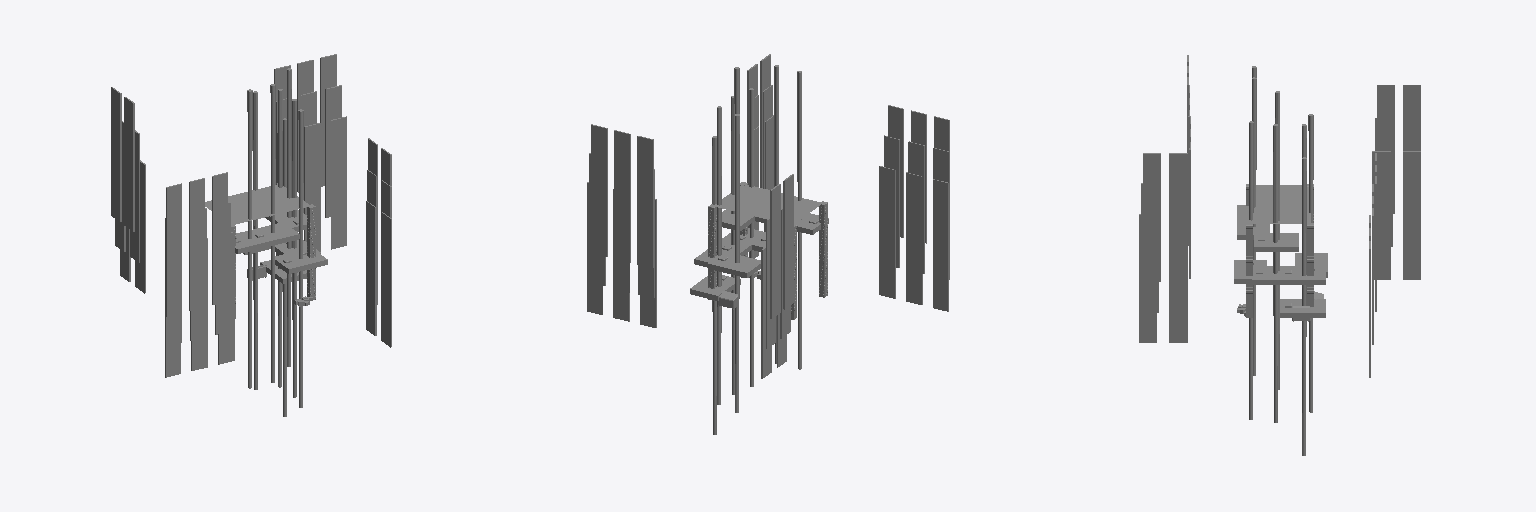
The model's file is Deconstruct3.obj.
The picture shows the model from 3 angles: view 1: azimuth 30°, elevation 25°; view 2: azimuth 150°, elevation 25°; view 3: azimuth 270°, elevation 25°; orthographic projection.
Parts seen in each view (by area): view 1: g Base_setup_Base_setup; view 2: g Base_setup_Base_setup; view 3: g Base_setup_Base_setup.
Boxes of the visible parts, box(x1,y1,x2,y2) form: g Base_setup_Base_setup: box(111, 54, 391, 416); g Base_setup_Base_setup: box(587, 54, 949, 434); g Base_setup_Base_setup: box(1139, 55, 1420, 455).
Bounding box in the file's own units: 91.81 × 116 × 82.81.